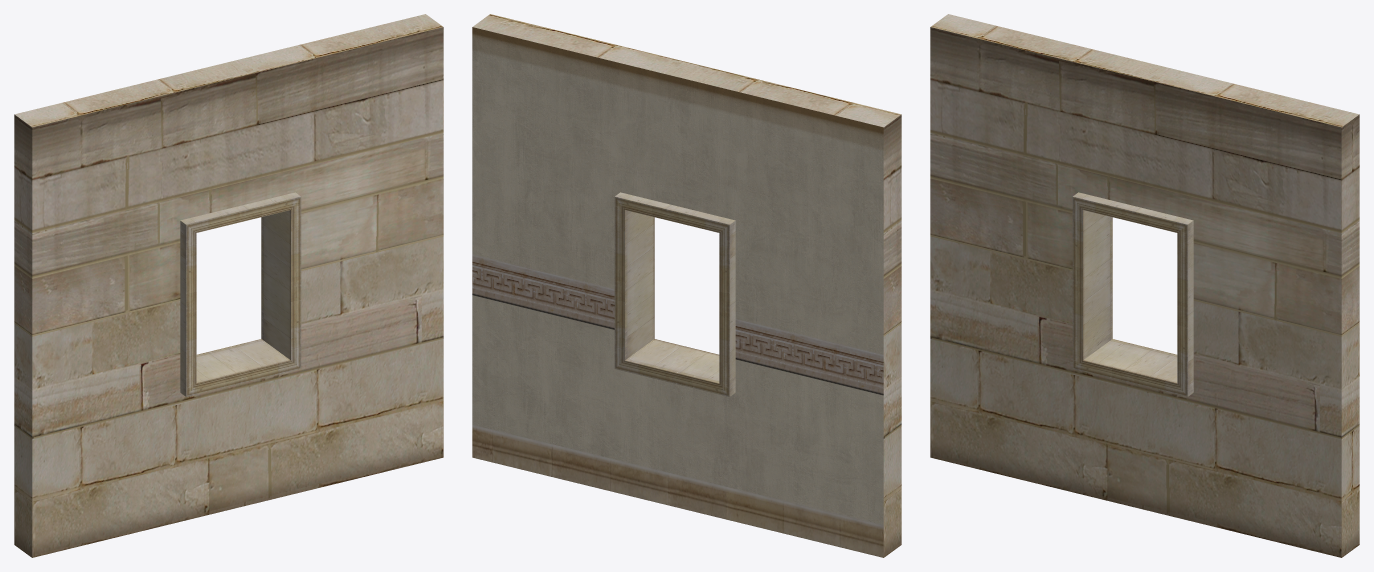
The model's file is svspartawindow2.dae.
3 renders of one model, left to right at view 1: azimuth 30°, elevation 25°; view 2: azimuth 150°, elevation 25°; view 3: azimuth 330°, elevation 25°, orthographic.
Visible parts, largest first — view 1: unnamed_object6_sep68-0; view 2: unnamed_object6_sep68-0; view 3: unnamed_object6_sep68-0.
Part boxes in pixels (x1=…): unnamed_object6_sep68-0: x1=14, y1=14, x2=443, y2=557; unnamed_object6_sep68-0: x1=472, y1=14, x2=901, y2=557; unnamed_object6_sep68-0: x1=930, y1=14, x2=1359, y2=557.
Bounding box in the file's own units: 400 × 400 × 50.
